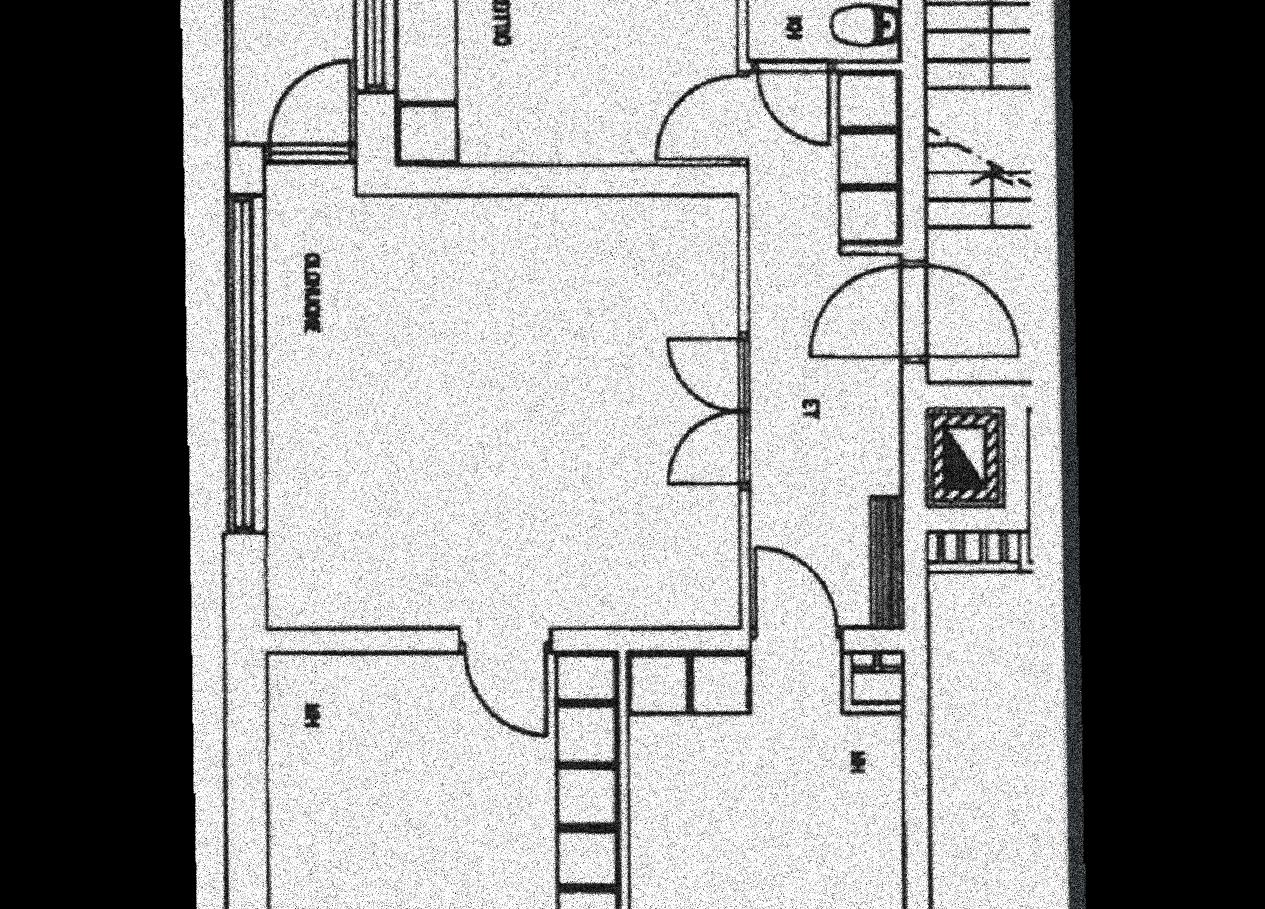door: (401, 0, 894, 632), (263, 163, 738, 629), (264, 656, 615, 909), (629, 638, 908, 909), (235, 0, 351, 142), (750, 0, 894, 56)
window: (808, 259, 1025, 363), (663, 336, 745, 488), (458, 630, 547, 741), (268, 54, 353, 163), (649, 72, 742, 163), (752, 547, 833, 638), (754, 63, 834, 149)
zone: (224, 199, 263, 534), (357, 0, 391, 92)
